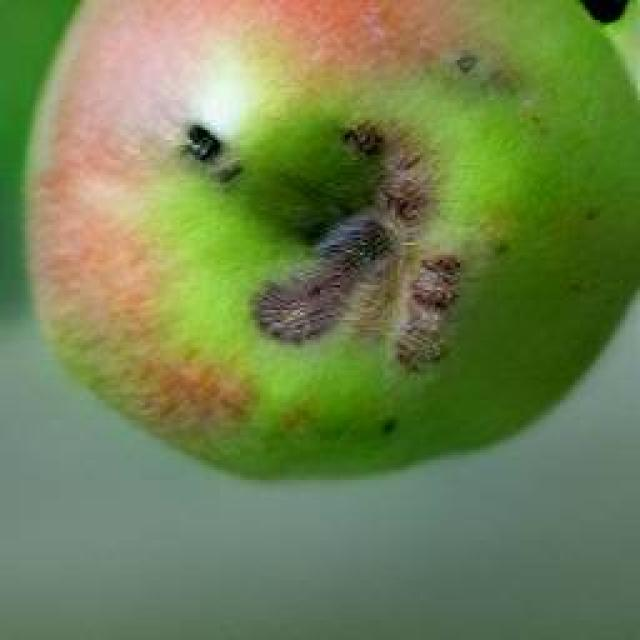defective: (18, 0, 638, 482)
